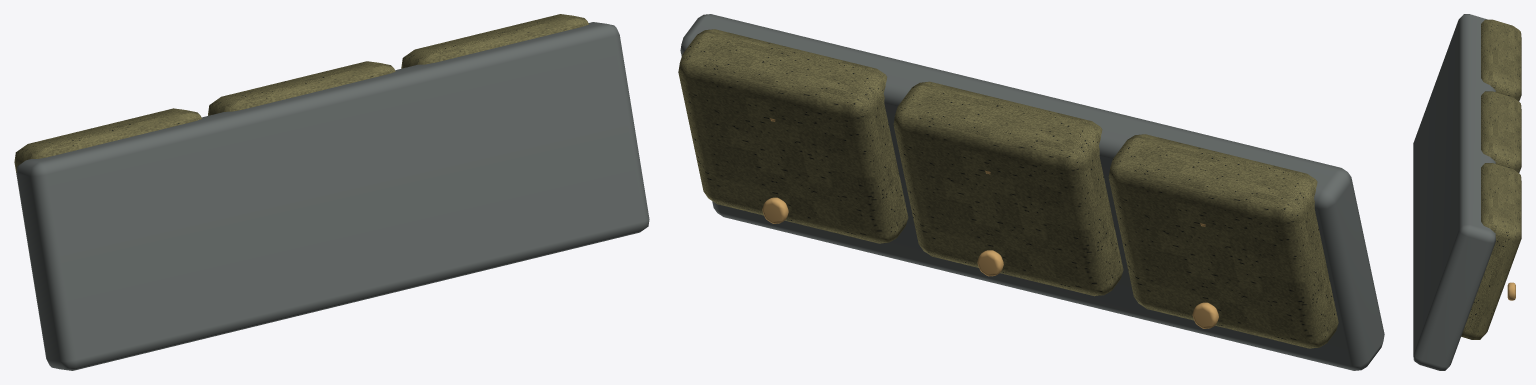
The model's file is STK-A01.fbx.
3 views of the same model, side by side, from view 1: azimuth 30°, elevation 25°; view 2: azimuth 150°, elevation 25°; view 3: azimuth 270°, elevation 25° (orthographic). The views are drawn at different scales.
Visible parts, largest first — view 1: STK-A01_Steel, STK-A01_Armor; view 2: STK-A01_Armor, STK-A01_Steel, STK-A01_Brass; view 3: STK-A01_Steel, STK-A01_Armor, STK-A01_Brass.
Part boxes in pixels (box(x1,y1,x2,y2)): STK-A01_Steel: box(16, 22, 649, 370); STK-A01_Armor: box(14, 14, 588, 172); STK-A01_Armor: box(678, 29, 1338, 348); STK-A01_Steel: box(680, 14, 1384, 370); STK-A01_Brass: box(762, 118, 1218, 328); STK-A01_Steel: box(1413, 14, 1495, 370); STK-A01_Armor: box(1461, 19, 1521, 339); STK-A01_Brass: box(1507, 282, 1515, 300).
Bounding box in the file's own units: 222 × 69.58 × 46.7.
